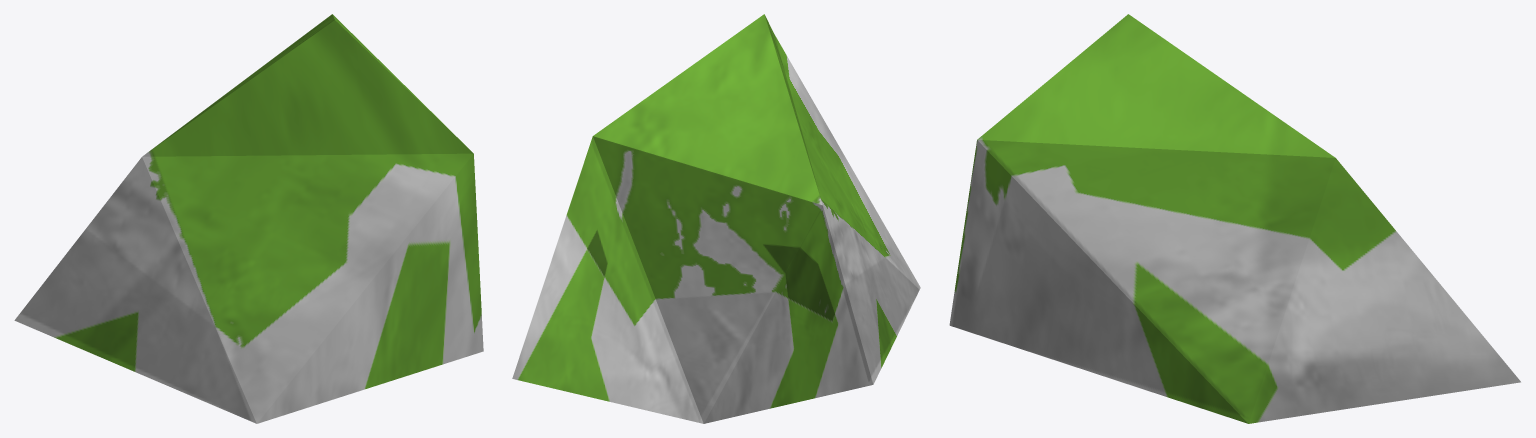
File: MossyRock2.FBX
3 views of the same model, side by side, from view 1: azimuth 30°, elevation 25°; view 2: azimuth 150°, elevation 25°; view 3: azimuth 270°, elevation 25° (orthographic). The views are drawn at different scales.
Parts seen in each view (by area): view 1: GeoSphere002; view 2: GeoSphere002; view 3: GeoSphere002.
Part boxes in pixels (x1,y1,x2,y2): GeoSphere002: [14, 14, 483, 423]; GeoSphere002: [512, 14, 920, 423]; GeoSphere002: [949, 14, 1520, 423].
Bounding box in the file's own units: 44.61 × 45.8 × 57.91.
Materials: 1 (1 with a texture image).
